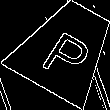P_NE: (35, 18, 97, 80)
